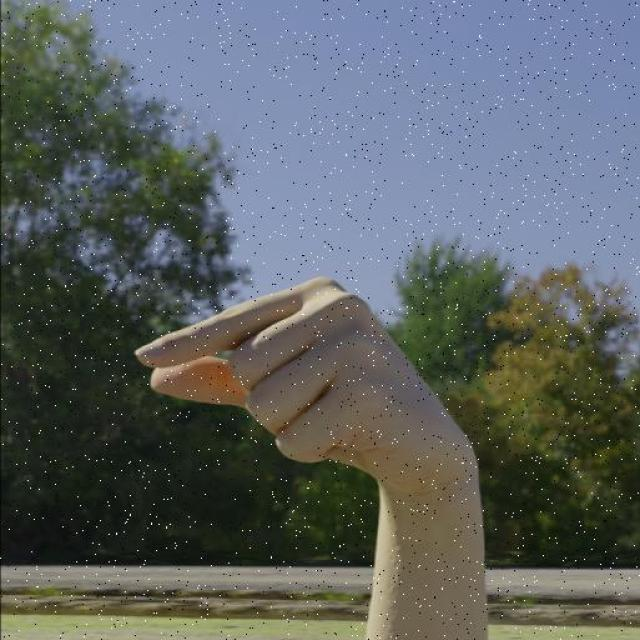G: (132, 270, 481, 482)
